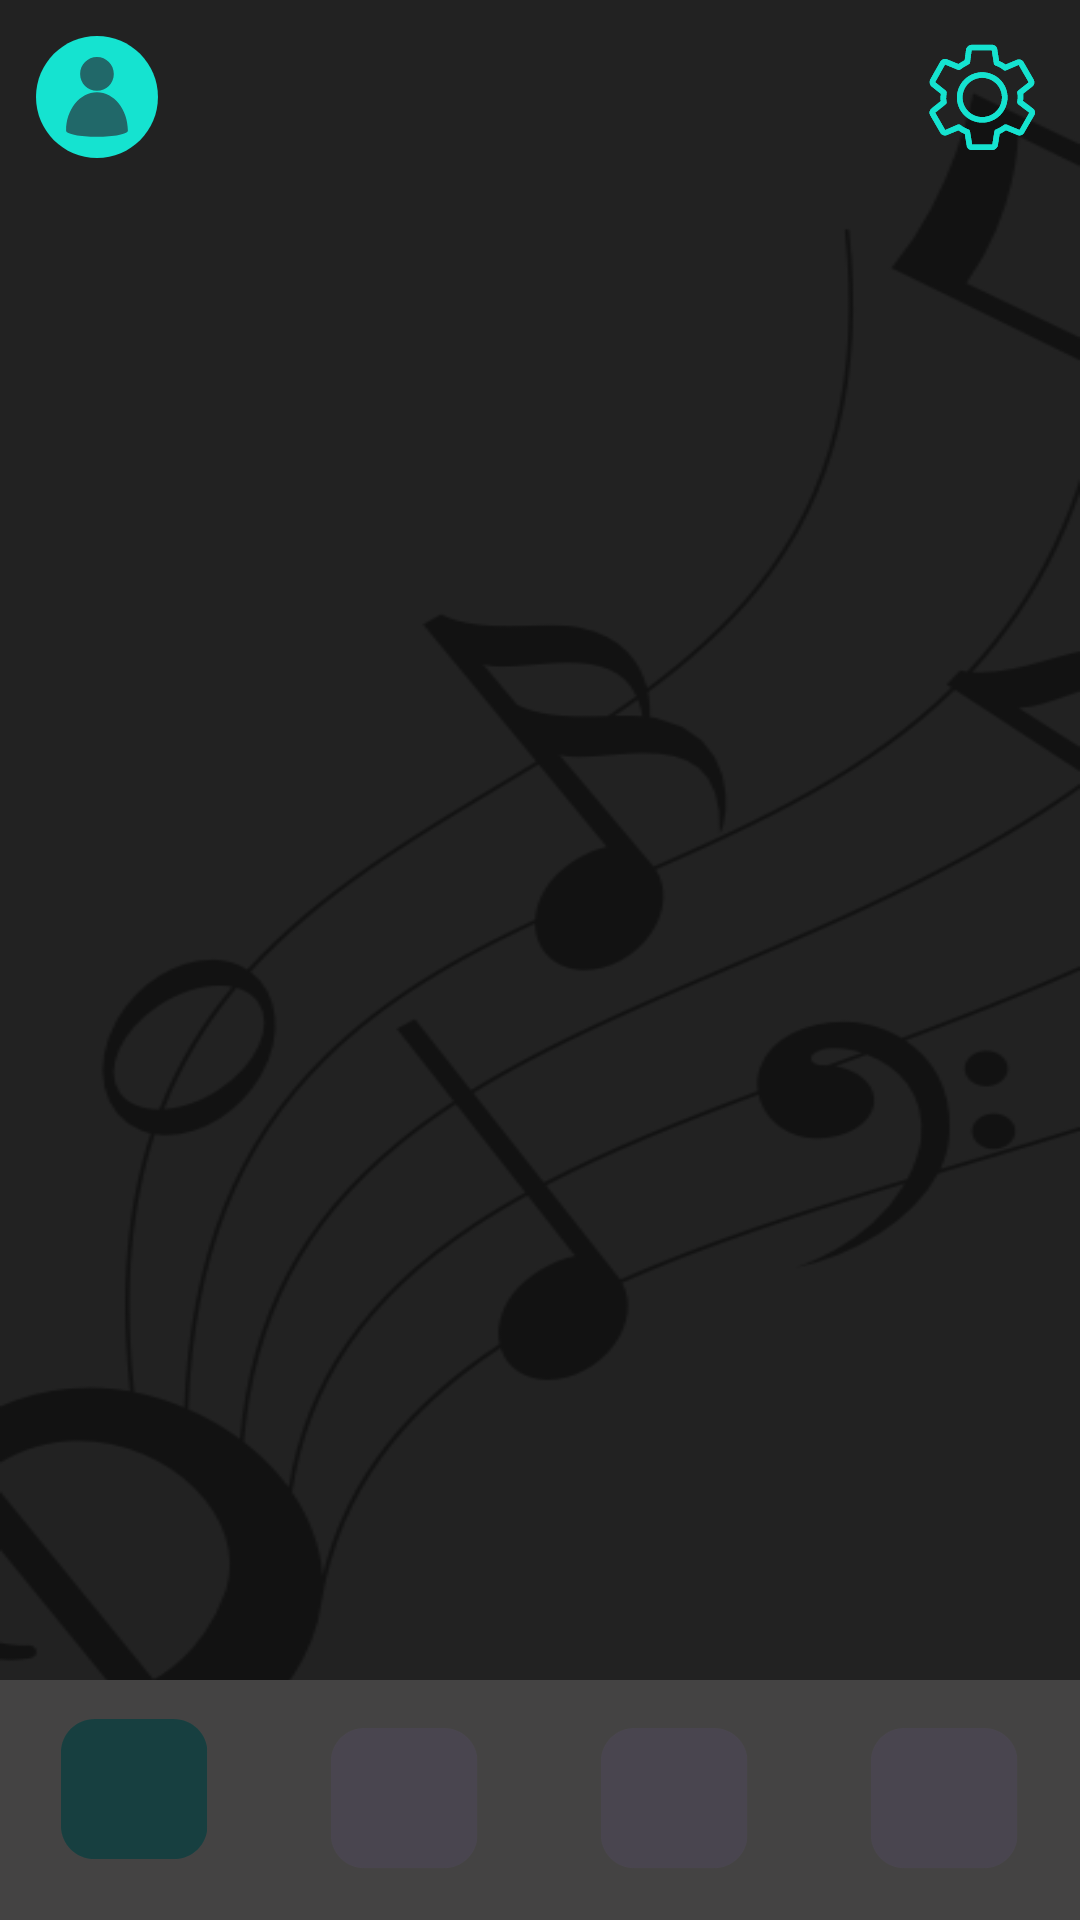

Icons on this 1080 × 1920 Android screen, each with the point to tap as point (x, y):
profile: point (97, 97)
settings: point (982, 97)
